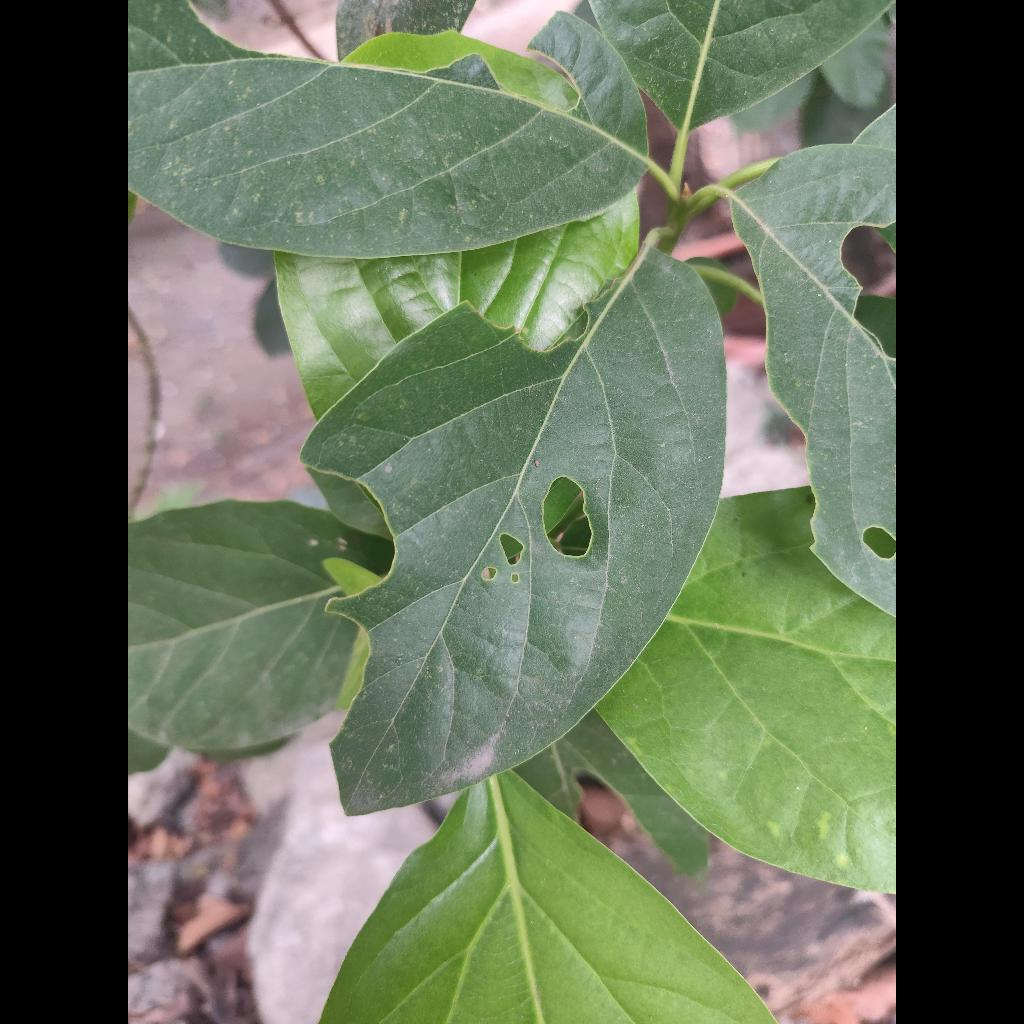Pest Infested: (302, 251, 725, 813)
